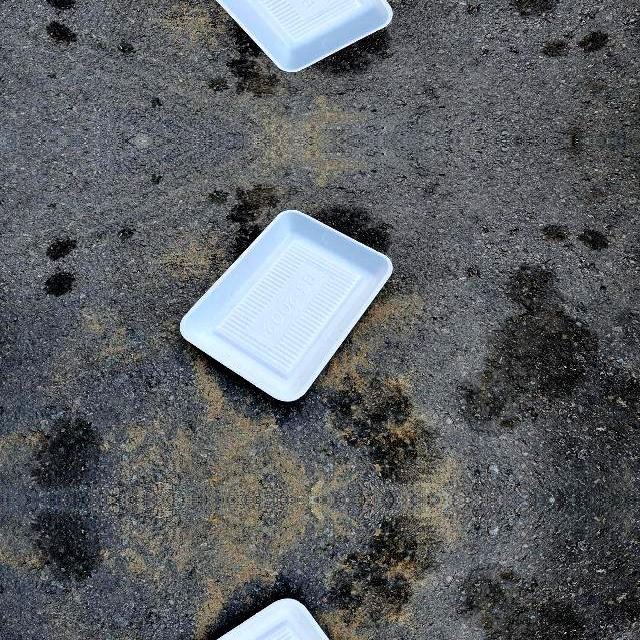Styrofoam: (180, 208, 394, 402), (180, 209, 393, 401), (180, 0, 394, 72), (217, 0, 393, 71), (180, 596, 394, 640)
